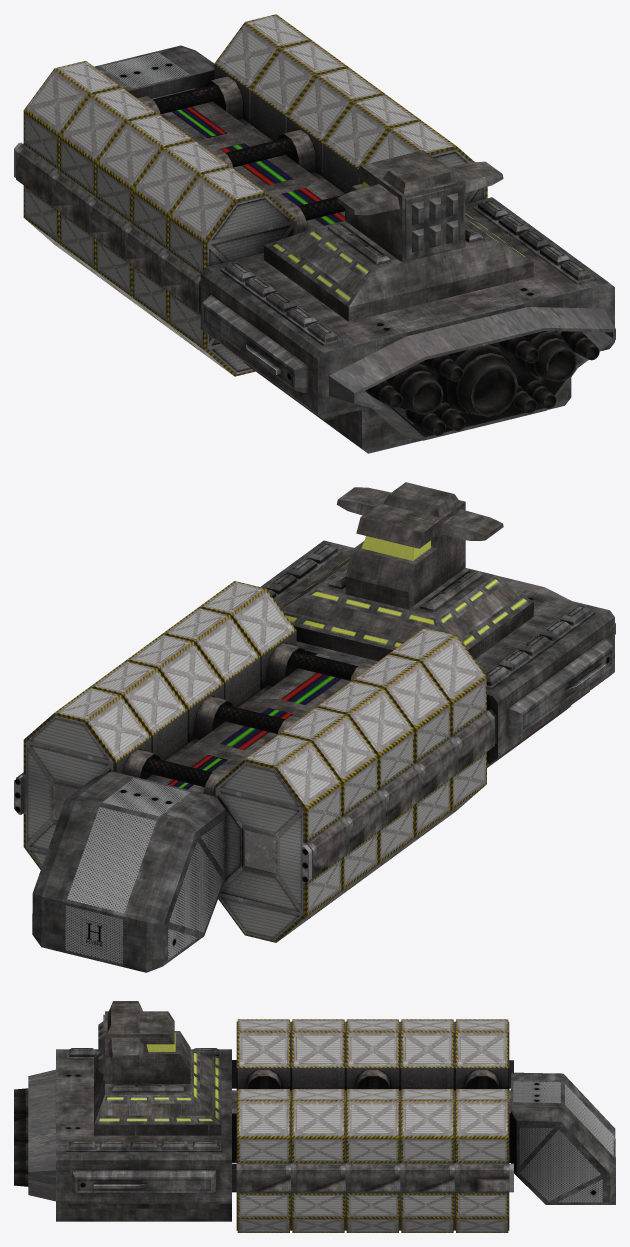
File: dsminer_med.dae
3 views of the same model, one above another, from view 1: azimuth 30°, elevation 25°; view 2: azimuth 150°, elevation 25°; view 3: azimuth 270°, elevation 25° (orthographic). The views are drawn at different scales.
Visible parts, largest first — view 1: cargo_med, fuselage_med, Engines_med; view 2: cargo_med, fuselage_med; view 3: cargo_med, fuselage_med, Engines_med.
Part boxes in pixels (x1,y1,x2,y2): cargo_med: (14,14,595,420); fuselage_med: (94,45,615,453); Engines_med: (365,331,599,435); cargo_med: (14,543,613,942); fuselage_med: (32,482,615,972); cargo_med: (66,1019,513,1232); fuselage_med: (28,1001,615,1221); Engines_med: (14,1088,28,1186).
Size of the model in its own units: 28.7 by 60.36 by 19.47.
1 material, 1 textured.
